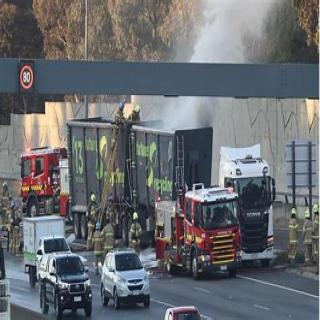Fire_truck: (140, 177, 242, 303), (20, 146, 68, 218)
